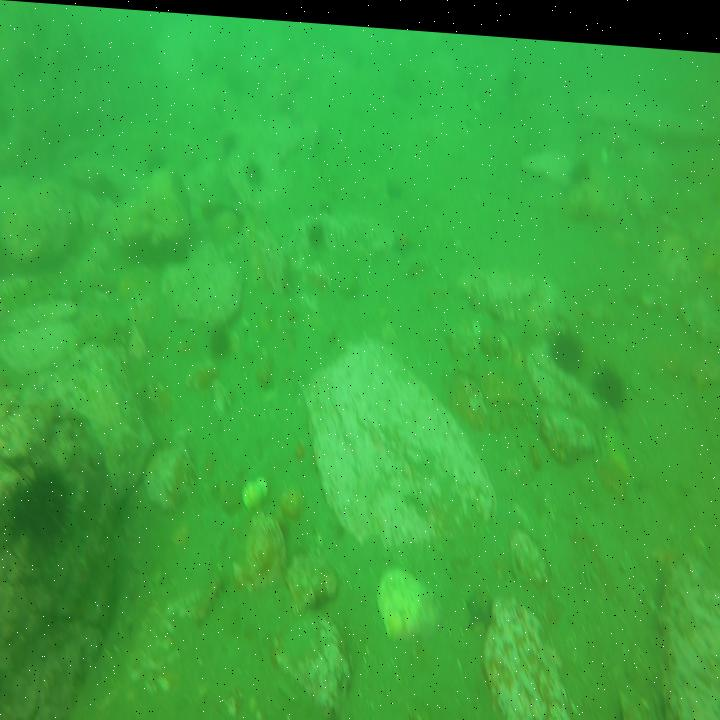echinus: (6, 451, 66, 562), (548, 316, 586, 368), (594, 352, 628, 410), (244, 152, 266, 191), (207, 317, 228, 356), (569, 149, 591, 183), (303, 215, 325, 248)
scallop: (376, 559, 444, 640), (143, 439, 196, 516), (243, 507, 286, 587)
